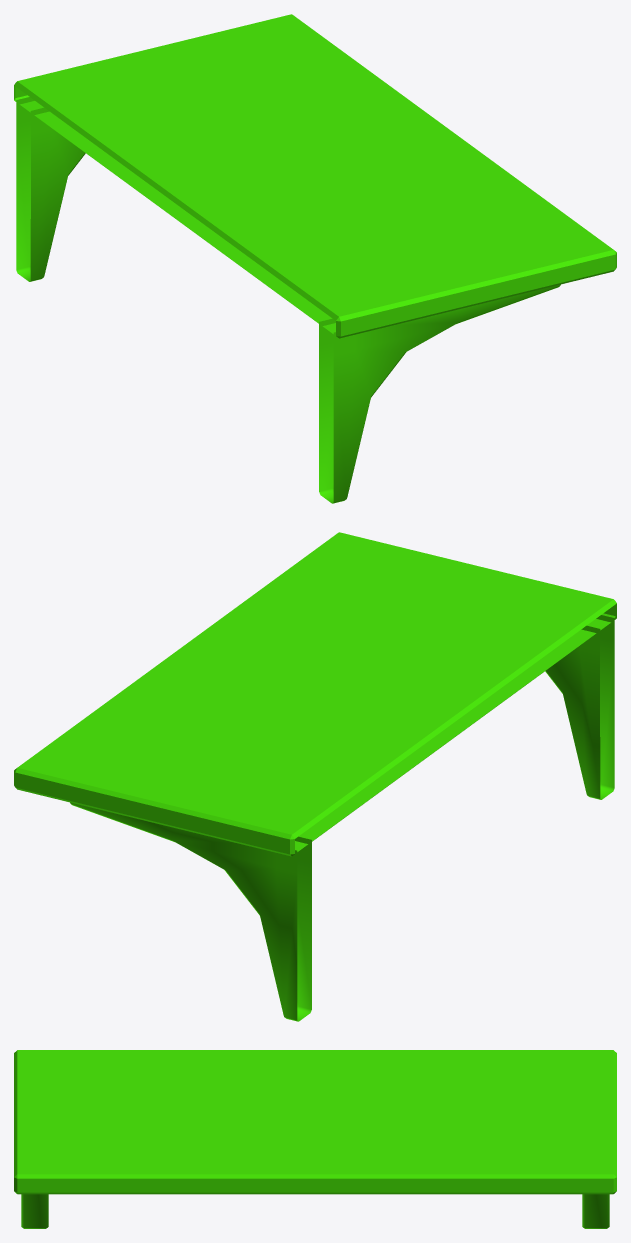
Rendered from G_Shelf_01.fbx.
3 renders of one model, top to bottom at view 1: azimuth 30°, elevation 25°; view 2: azimuth 150°, elevation 25°; view 3: azimuth 270°, elevation 25°, orthographic. The views are drawn at different scales.
Visible parts, largest first — view 1: shelf; view 2: shelf; view 3: shelf.
Part boxes in pixels (box(x1,y1,x2,y2)): shelf: box(14, 14, 616, 503); shelf: box(14, 532, 616, 1021); shelf: box(14, 1050, 616, 1228).
Size of the model in its own units: 349 by 224 by 700.
